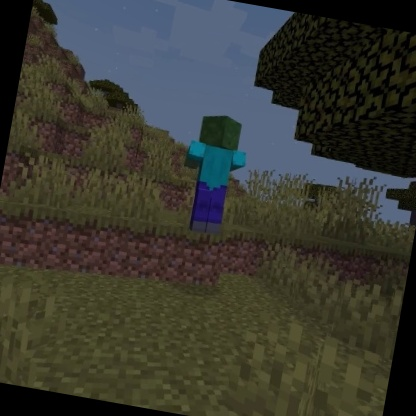zombie: (169, 107, 257, 244)
